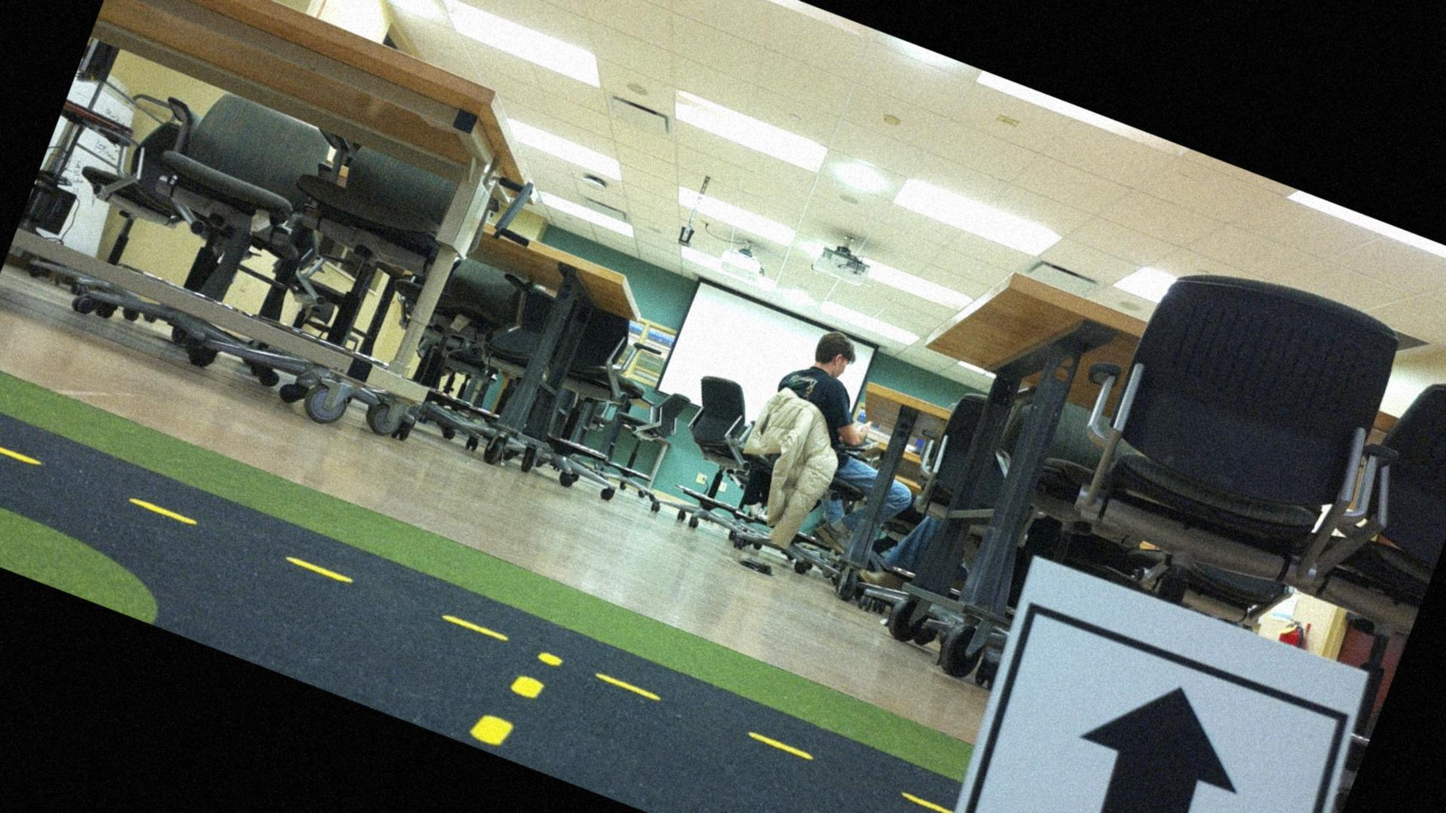gostraight: (919, 547, 1381, 812)
yellowline: (0, 422, 954, 812), (468, 632, 561, 757)
